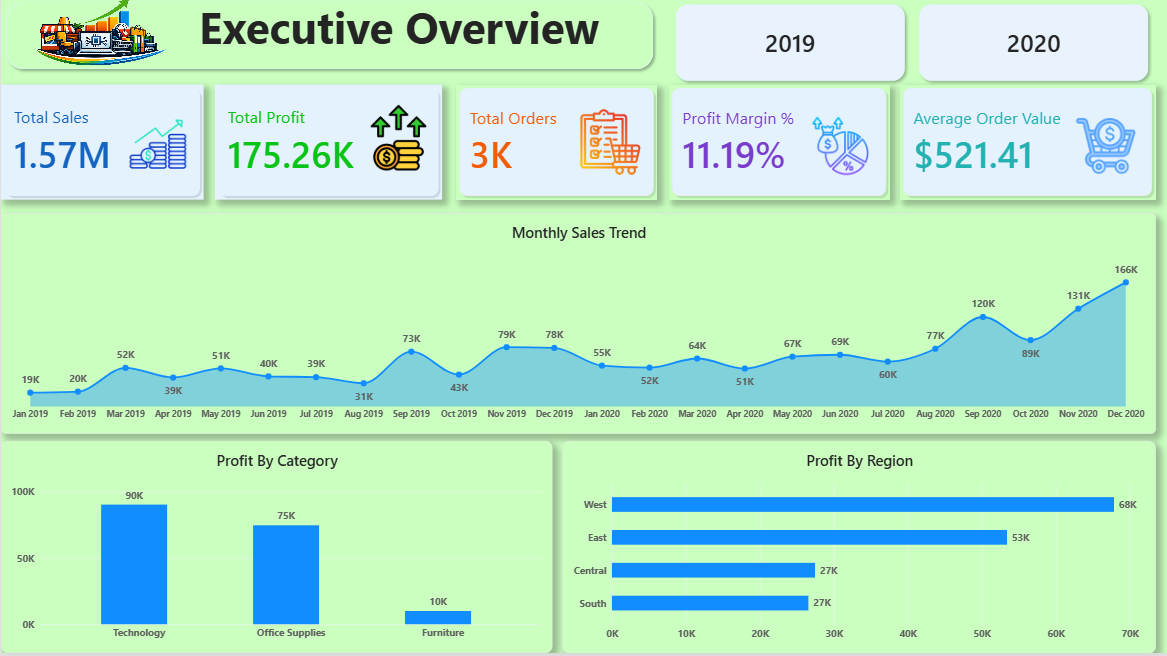

Layout of this report page (visuals, bound fields, positions):
{"tool":"powerbi","page":{"name":"Executive Overview ","canvas":[1920,1080],"ordinal":0},"visuals":[{"type":"cardVisual","fields":{"Data":["SuperStore_Sales_Dataset_Cleaned.Total Sales"]},"box":[0,144.1,333.4,189.4],"z":0},{"type":"cardVisual","fields":{"Data":["SuperStore_Sales_Dataset_Cleaned.Total Orders"]},"box":[749.2,144.1,331.4,189.4],"z":1000},{"type":"cardVisual","fields":{"Data":["SuperStore_Sales_Dataset_Cleaned.Profit Margin %"]},"box":[1099.1,144.1,364.3,189.4],"z":2000},{"type":"cardVisual","fields":{"Data":["SuperStore_Sales_Dataset_Cleaned.Average Order Value"]},"box":[1479.9,144.1,422,189.4],"z":3000},{"type":"cardVisual","fields":{"Data":["SuperStore_Sales_Dataset_Cleaned.Total Profit"]},"box":[352,144.1,374.6,189.4],"z":4000},{"type":"lineChart","title":"Monthly Sales Trend","fields":{"Y":["SuperStore_Sales_Dataset_Cleaned.Total Sales"],"Category":["DimDate.Month Year"]},"box":[0,356.9,1901.9,363],"z":5000},{"type":"shape","box":[0,0,1082.7,127.6],"z":6000},{"type":"textbox","box":[306.7,0,697.8,127.6],"z":7000},{"type":"clusteredColumnChart","title":"Profit By Category","fields":{"Category":["SuperStore_Sales_Dataset_Cleaned.Category"],"Y":["SuperStore_Sales_Dataset_Cleaned.Total Profit"]},"box":[0,730.7,907.7,349.9],"z":8000},{"type":"clusteredBarChart","title":"Profit By Region","fields":{"Category":["SuperStore_Sales_Dataset_Cleaned.Region"],"Y":["SuperStore_Sales_Dataset_Cleaned.Total Profit"]},"box":[924.1,730.2,977.7,350.7],"z":9000},{"type":"advancedSlicerVisual","fields":{"Values":["DimDate.Year"]},"box":[1099.1,0,802.7,150.3],"z":10000},{"type":"image","box":[924.2,183.2,158.8,111.4],"z":12000},{"type":"image","box":[600.3,173.3,107.3,117.6],"z":13000},{"type":"image","box":[1333.8,172.9,96.7,144.1],"z":14000},{"type":"image","box":[1768.1,152.3,101.1,185.6],"z":15000},{"type":"image","box":[210.4,167.1,96.9,150.6],"z":15500},{"type":"image","box":[12.3,0,306.7,127.6],"z":15501}]}

Visuals, with their boxes in screenshot pixels (x1, y1, x2, y2), scaled from the page's 1920x1080 canvas onto the 1167x656 screenshot:
cardVisual - SuperStore_Sales_Dataset_Cleaned.Total Sales: left=0, top=88, right=203, bottom=203
cardVisual - SuperStore_Sales_Dataset_Cleaned.Total Orders: left=455, top=88, right=657, bottom=203
cardVisual - SuperStore_Sales_Dataset_Cleaned.Profit Margin %: left=668, top=88, right=889, bottom=203
cardVisual - SuperStore_Sales_Dataset_Cleaned.Average Order Value: left=900, top=88, right=1156, bottom=203
cardVisual - SuperStore_Sales_Dataset_Cleaned.Total Profit: left=214, top=88, right=442, bottom=203
"Monthly Sales Trend" lineChart: left=0, top=217, right=1156, bottom=437
shape: left=0, top=0, right=658, bottom=78
textbox: left=186, top=0, right=611, bottom=78
"Profit By Category" clusteredColumnChart: left=0, top=444, right=552, bottom=655
"Profit By Region" clusteredBarChart: left=562, top=444, right=1156, bottom=655
advancedSlicerVisual - DimDate.Year: left=668, top=0, right=1156, bottom=91
image: left=562, top=111, right=658, bottom=179
image: left=365, top=105, right=430, bottom=177
image: left=811, top=105, right=869, bottom=193
image: left=1075, top=93, right=1136, bottom=205
image: left=128, top=101, right=187, bottom=193
image: left=7, top=0, right=194, bottom=78
